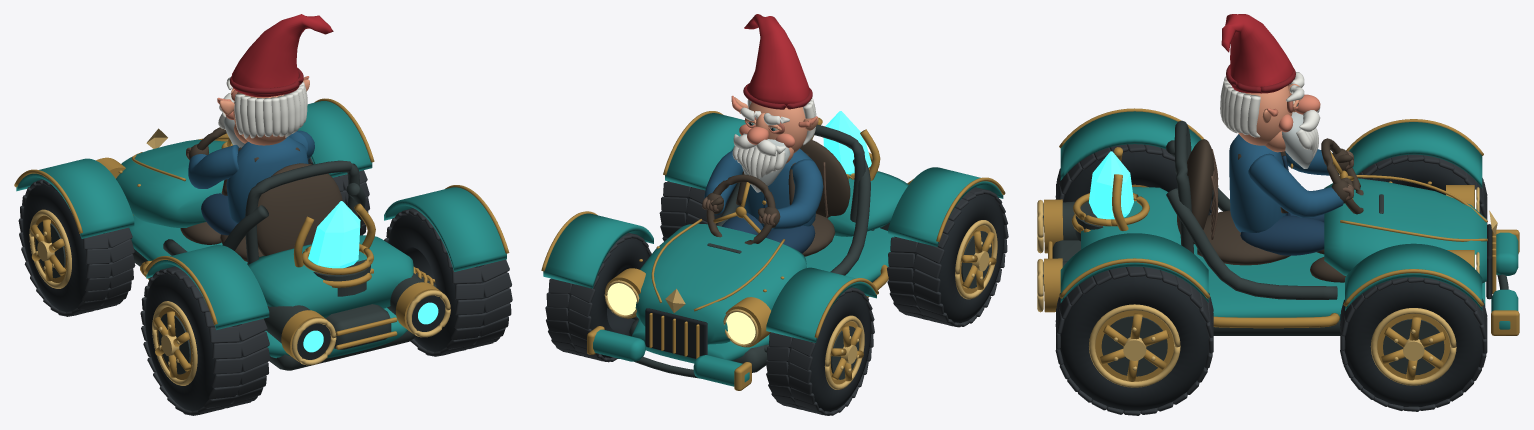
The model's file is hero-blockout.glb.
3 renders of one model, left to right at view 1: azimuth 30°, elevation 25°; view 2: azimuth 150°, elevation 25°; view 3: azimuth 270°, elevation 25°, orthographic. The views are drawn at different scales.
Parts seen in each view (by area): view 1: Body, RearLeftRoll, EngineCradle, FrontLeftRoll, RearRightRoll, DriverBody, Hat, Head, Crystal, FrontRightRoll; view 2: Body, RearLeftRoll, FrontLeftRoll, DriverBody, FrontRightRoll, Head, Hat, RearRightRoll, SteeringWheel, Crystal, EngineCradle; view 3: Body, RearRightRoll, FrontRightRoll, DriverBody, Head, EngineCradle, Hat, RearLeftRoll, FrontLeftRoll, Crystal, SteeringWheel.
Boxes of the visible parts, x1,y1,x2,y2 form: Body: (14,98,509,370); RearLeftRoll: (140,266,270,415); EngineCradle: (264,203,450,365); FrontLeftRoll: (18,179,135,316); RearRightRoll: (384,208,512,356); DriverBody: (180,130,314,244); Hat: (230,14,333,97); Head: (217,76,309,147); Crystal: (308,201,360,268); FrontRightRoll: (308,157,369,235); Body: (541,111,1005,390); RearLeftRoll: (887,187,1008,327); FrontLeftRoll: (765,287,874,415); DriverBody: (704,148,823,253); FrontRightRoll: (545,233,651,362); Head: (731,95,818,192); Hat: (743,14,812,109); RearRightRoll: (659,181,735,241); SteeringWheel: (706,174,775,244); Crystal: (823,111,871,174); EngineCradle: (811,117,913,230); Body: (1059,108,1519,335); RearRightRoll: (1055,266,1213,415); FrontRightRoll: (1340,277,1487,411); DriverBody: (1229,134,1345,282); Head: (1220,72,1320,168); EngineCradle: (1037,147,1149,312); Hat: (1221,14,1295,93); RearLeftRoll: (1055,144,1212,215); FrontLeftRoll: (1358,154,1487,224); Crystal: (1089,151,1133,219); SteeringWheel: (1321,138,1363,214).
Size of the model in its own units: 2.18 by 2.08 by 2.7.
